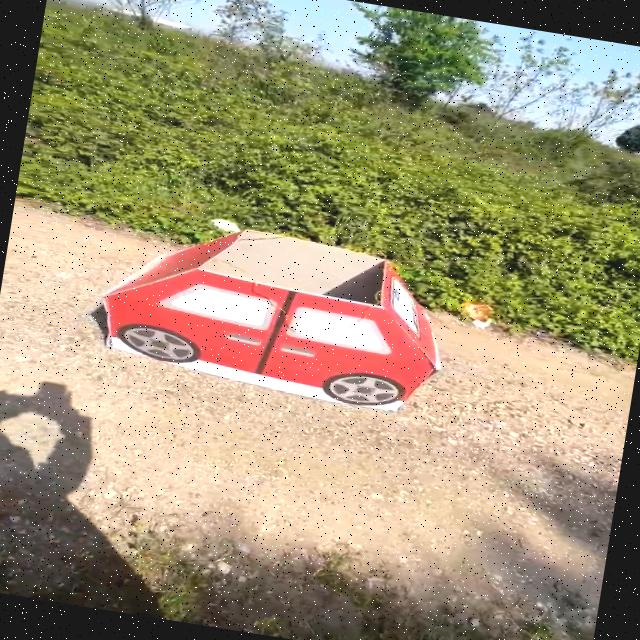red_car: (44, 198, 475, 420)
